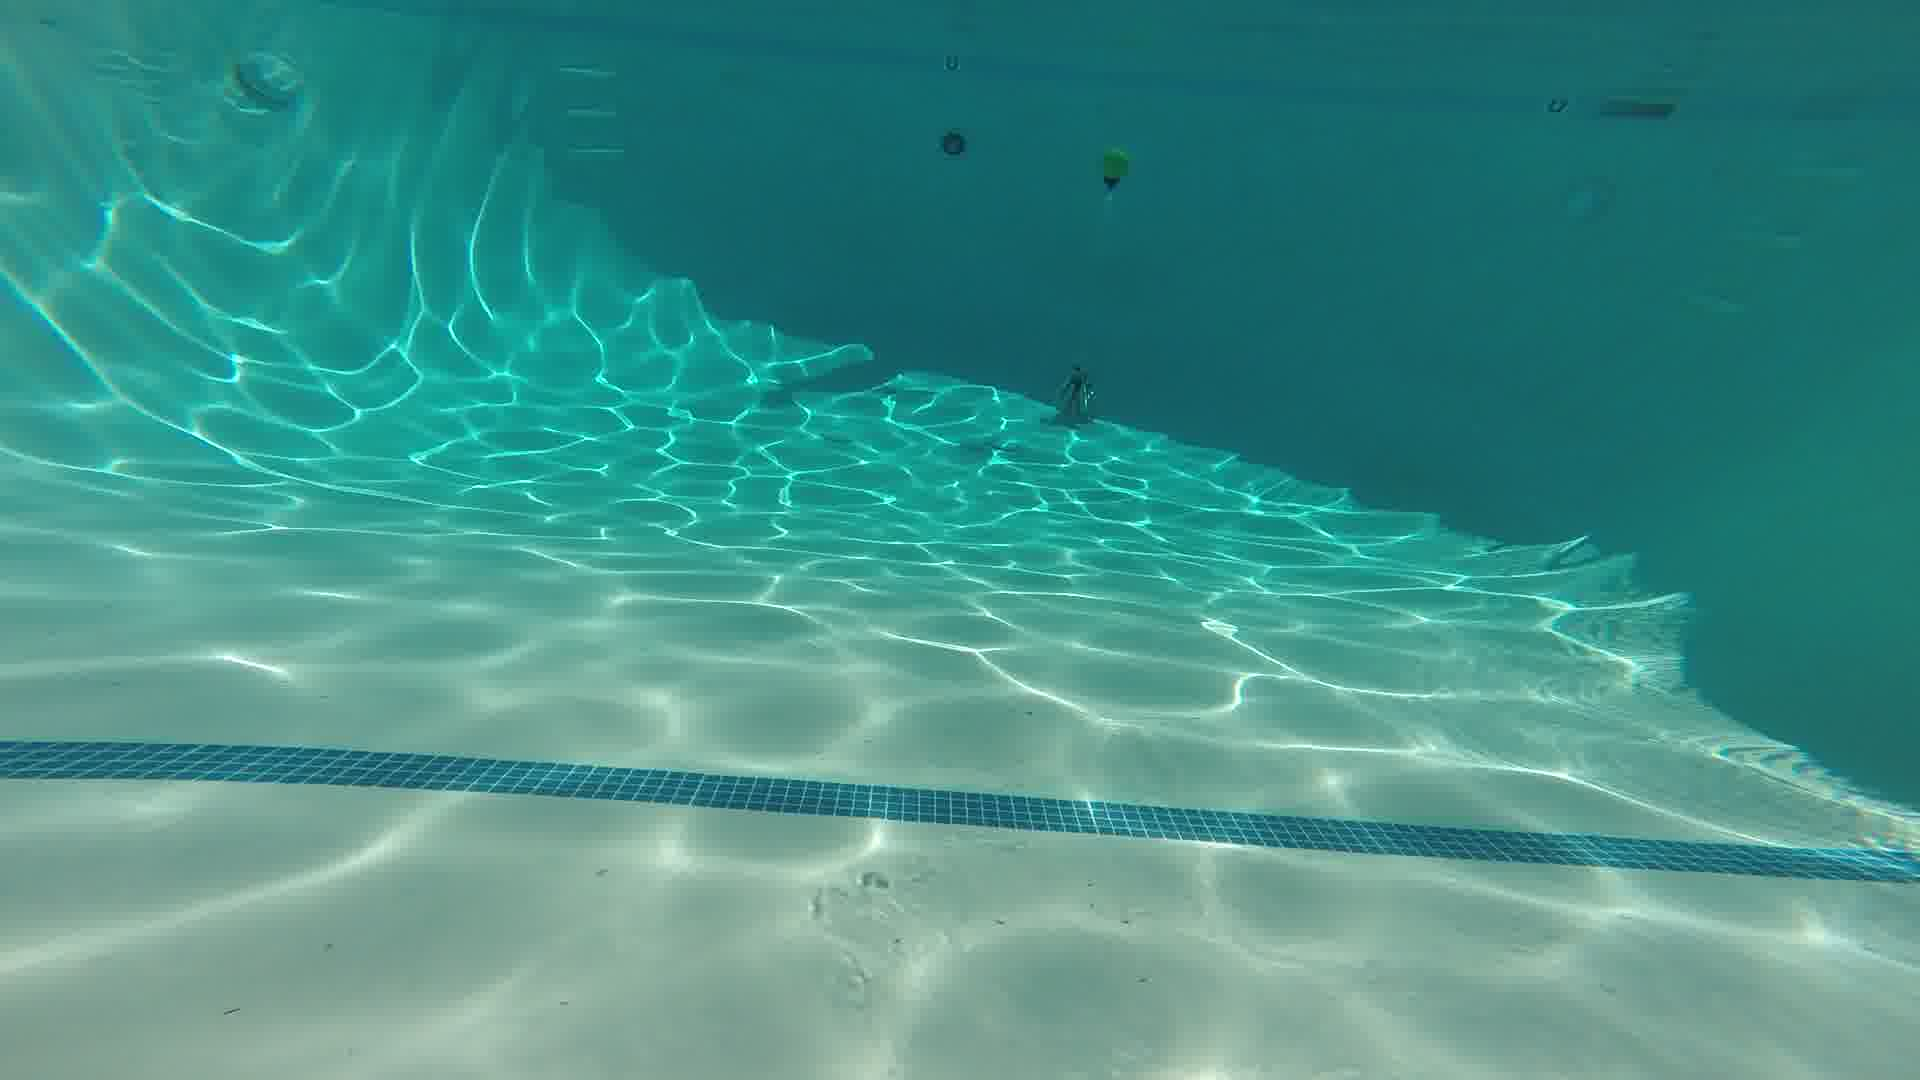yellow buoy: (1096, 140, 1137, 212)
